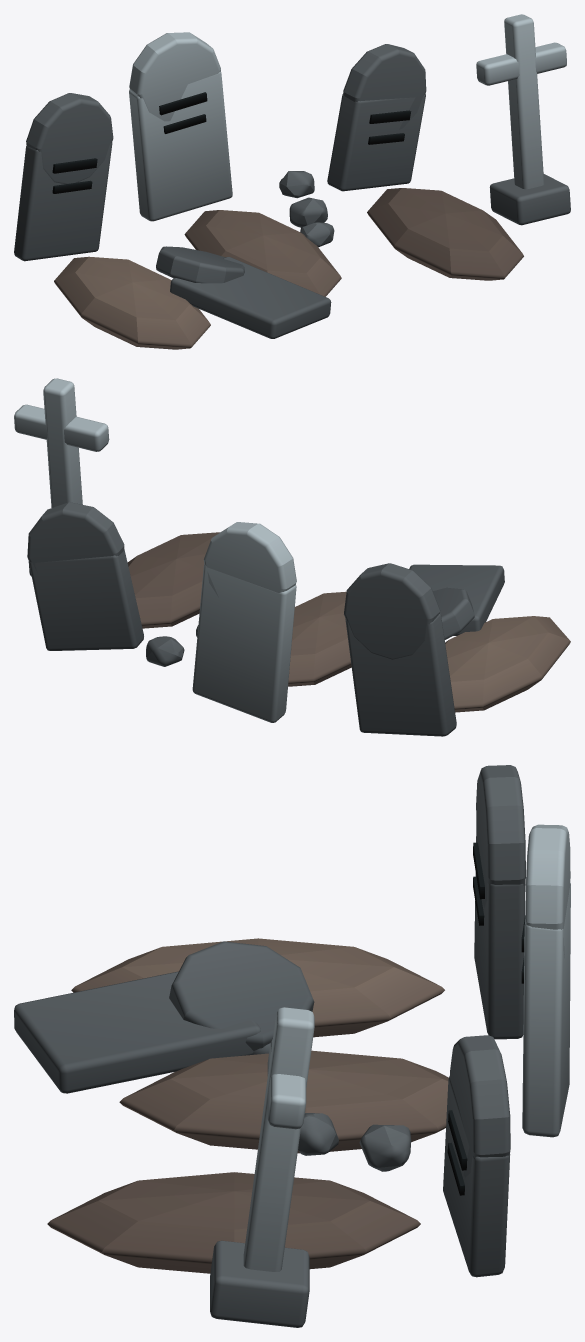
Rendered from tombstone_cluster.glb.
3 views of the same model, one above another, from view 1: azimuth 30°, elevation 25°; view 2: azimuth 150°, elevation 25°; view 3: azimuth 270°, elevation 25° (orthographic). The views are drawn at different scales.
Parts seen in each view (by area): view 1: tombstone_cluster; view 2: tombstone_cluster; view 3: tombstone_cluster.
Part boxes in pixels (bbox=[...]): tombstone_cluster: bbox=[14, 14, 570, 349]; tombstone_cluster: bbox=[14, 378, 570, 736]; tombstone_cluster: bbox=[14, 765, 570, 1327].
Bounding box in the file's own units: 3.7 × 1.45 × 2.32.
Materials: 1 (1 with a texture image).
